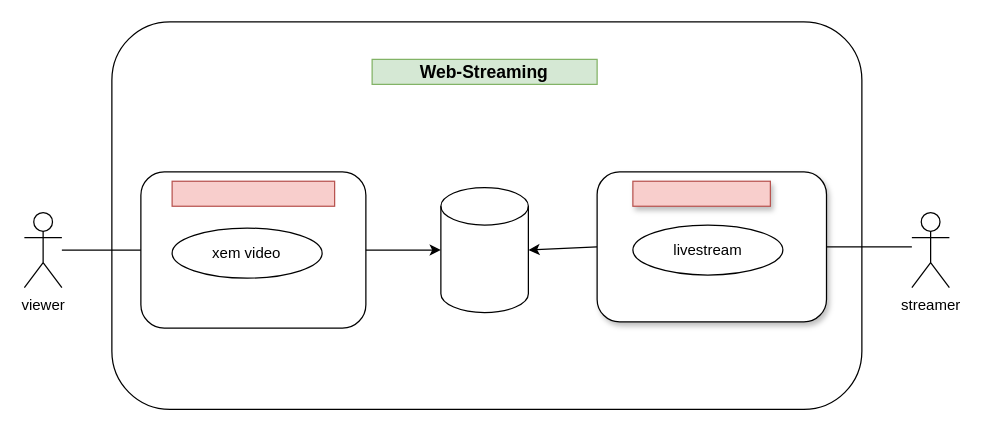
This 981x431 diagram has some shape labels left out. Each missing label, with the centre of its shape:
"Database" belongs at pixel 484 249.
"Use Case Streamer" belongs at pixel 702 195.
"Use Case Viewer" belongs at pixel 253 193.
